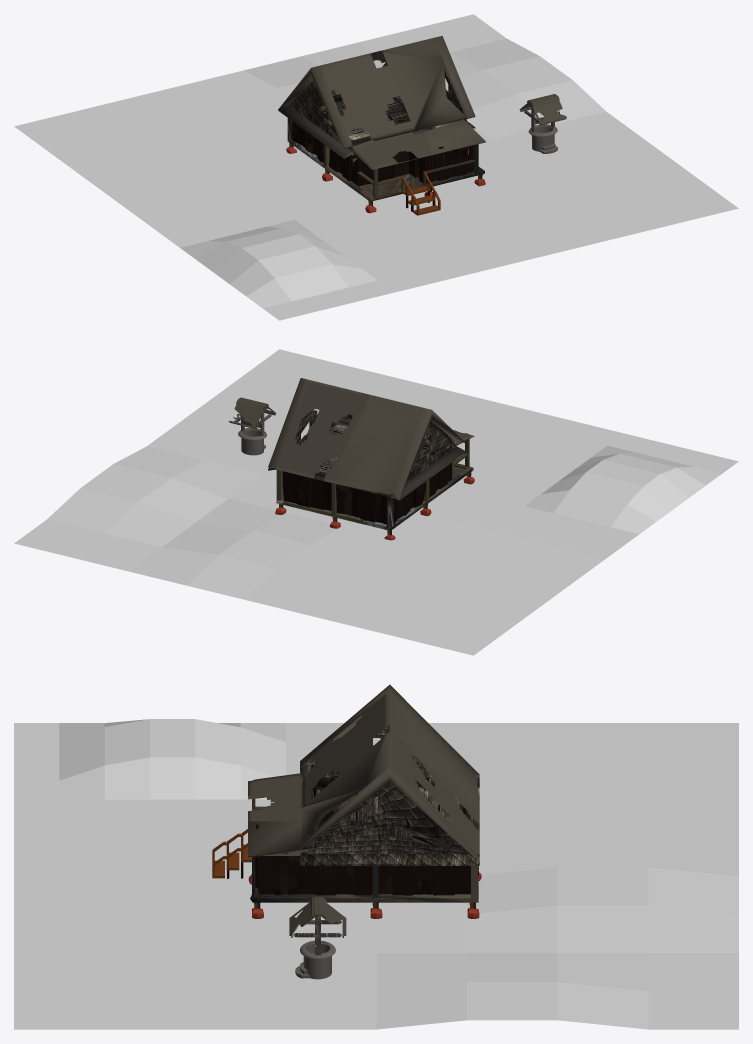
The model's file is haunted sundanese traditional house.fbx.
The picture shows the model from 3 angles, top to bottom: view 1: azimuth 30°, elevation 25°; view 2: azimuth 150°, elevation 25°; view 3: azimuth 270°, elevation 25°; orthographic projection. The views are drawn at different scales.
Visible parts, largest first — view 1: tanah, rumah, sumur_2; view 2: tanah, rumah, sumur_2; view 3: tanah, rumah, sumur_2.
Part boxes in pixels (left/top/right/bottom): tanah: left=14, top=14, right=738, bottom=320; rumah: left=278, top=35, right=485, bottom=215; sumur_2: left=519, top=94, right=566, bottom=153; tanah: left=14, top=349, right=738, bottom=655; rumah: left=268, top=378, right=474, bottom=540; sumur_2: left=228, top=397, right=275, bottom=455; tanah: left=14, top=719, right=738, bottom=1029; rumah: left=212, top=684, right=481, bottom=918; sumur_2: left=289, top=896, right=346, bottom=979.
Bounding box in the file's own units: 4549 × 1053 × 4549.
